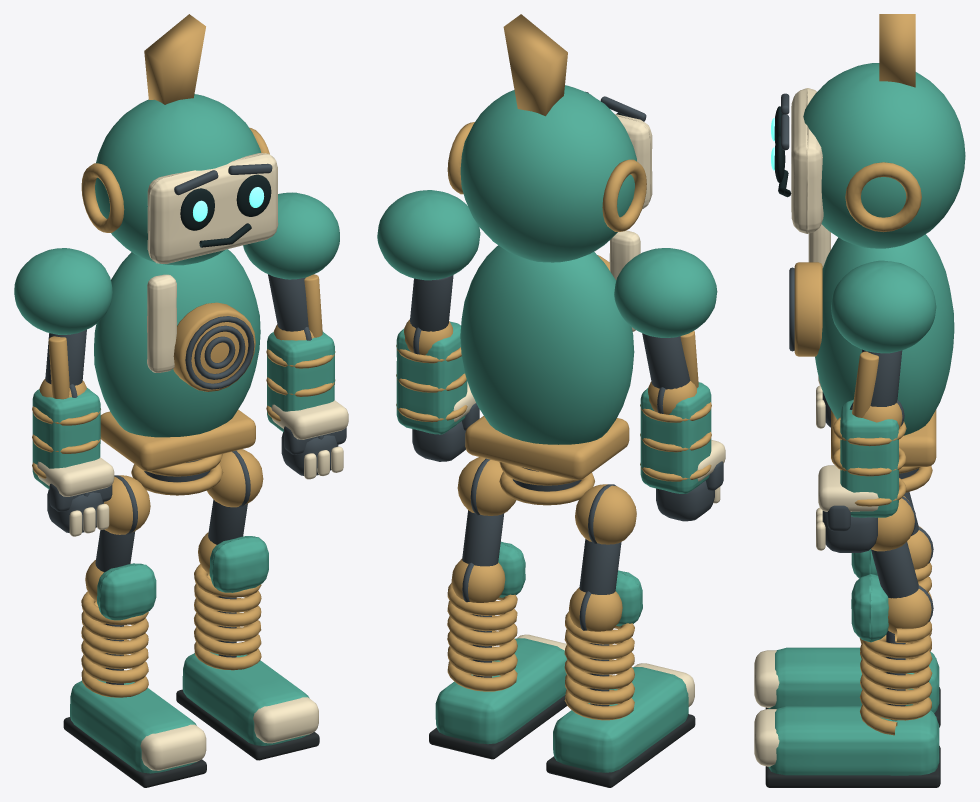
The model's file is spring_duelist.t1.glb.
3 renders of one model, left to right at view 1: azimuth 30°, elevation 25°; view 2: azimuth 150°, elevation 25°; view 3: azimuth 270°, elevation 25°, orthographic. The views are drawn at different scales.
Parts seen in each view (by area): view 1: slot_torso__clay_duelist_jade__clay, slot_head__clay_duelist_jade__clay, slot_torso__worn_warm_brass__protected, slot_legR__clay_duelist_jade__clay, slot_legL__clay_duelist_jade__clay, slot_head__clay_warm_ivory__clay, slot_legR__worn_warm_brass__protected, slot_legL__worn_warm_brass__protected, slot_armL__clay_duelist_jade__clay, slot_head__worn_warm_brass__protected, slot_armR__clay_duelist_jade__clay, armL_elbow__clay_duelist_jade__clay (+25 smaller); view 2: slot_torso__clay_duelist_jade__clay, slot_head__clay_duelist_jade__clay, slot_legL__worn_warm_brass__protected, slot_legR__worn_warm_brass__protected, slot_legL__clay_duelist_jade__clay, slot_legR__clay_duelist_jade__clay, slot_torso__worn_warm_brass__protected, slot_head__worn_warm_brass__protected, slot_armL__clay_duelist_jade__clay, slot_armR__clay_duelist_jade__clay, armL_elbow__clay_duelist_jade__clay, armR_elbow__clay_duelist_jade__clay (+14 smaller); view 3: slot_head__clay_duelist_jade__clay, slot_legR__clay_duelist_jade__clay, slot_torso__clay_duelist_jade__clay, slot_legR__worn_warm_brass__protected, slot_armR__clay_duelist_jade__clay, slot_legL__clay_duelist_jade__clay, slot_head__worn_warm_brass__protected, slot_torso__worn_warm_brass__protected, armR_elbow__clay_duelist_jade__clay, slot_head__clay_warm_ivory__clay, slot_legR__charcoal_rubber__protected, slot_legR__forged_bluelead_steel__protected (+13 smaller).
Part boxes in pixels (x1,y1,x2,y2): slot_torso__clay_duelist_jade__clay: [94, 249, 260, 437]; slot_head__clay_duelist_jade__clay: [95, 94, 260, 265]; slot_torso__worn_warm_brass__protected: [100, 302, 255, 495]; slot_legR__clay_duelist_jade__clay: [182, 536, 309, 745]; slot_legL__clay_duelist_jade__clay: [70, 563, 196, 773]; slot_head__clay_warm_ivory__clay: [147, 153, 278, 263]; slot_legR__worn_warm_brass__protected: [194, 449, 263, 670]; slot_legL__worn_warm_brass__protected: [81, 475, 150, 697]; slot_armL__clay_duelist_jade__clay: [14, 248, 112, 334]; slot_head__worn_warm_brass__protected: [81, 14, 269, 232]; slot_armR__clay_duelist_jade__clay: [243, 192, 339, 279]; armL_elbow__clay_duelist_jade__clay: [32, 387, 100, 489]; slot_torso__clay_duelist_jade__clay: [460, 245, 634, 444]; slot_head__clay_duelist_jade__clay: [460, 85, 636, 262]; slot_legL__worn_warm_brass__protected: [564, 484, 636, 720]; slot_legR__worn_warm_brass__protected: [447, 457, 517, 691]; slot_legL__clay_duelist_jade__clay: [553, 570, 688, 772]; slot_legR__clay_duelist_jade__clay: [435, 541, 567, 744]; slot_torso__worn_warm_brass__protected: [465, 255, 629, 505]; slot_head__worn_warm_brass__protected: [447, 14, 646, 231]; slot_armL__clay_duelist_jade__clay: [614, 248, 717, 337]; slot_armR__clay_duelist_jade__clay: [377, 190, 480, 280]; armL_elbow__clay_duelist_jade__clay: [640, 382, 711, 493]; armR_elbow__clay_duelist_jade__clay: [396, 321, 467, 434]; slot_head__clay_duelist_jade__clay: [803, 63, 965, 248]; slot_legR__clay_duelist_jade__clay: [768, 574, 939, 775]; slot_torso__clay_duelist_jade__clay: [815, 234, 954, 435]; slot_legR__worn_warm_brass__protected: [859, 496, 932, 735]; slot_armR__clay_duelist_jade__clay: [831, 260, 936, 353]; slot_legL__clay_duelist_jade__clay: [768, 549, 939, 712]; slot_head__worn_warm_brass__protected: [845, 14, 921, 232]; slot_torso__worn_warm_brass__protected: [794, 262, 936, 492]; armR_elbow__clay_duelist_jade__clay: [840, 399, 898, 517]; slot_head__clay_warm_ivory__clay: [791, 88, 823, 233]; slot_legR__charcoal_rubber__protected: [765, 746, 940, 787]; slot_legR__forged_bluelead_steel__protected: [871, 496, 933, 720].
Bounding box in the file's own units: 1.1 × 2.33 × 0.6004.
